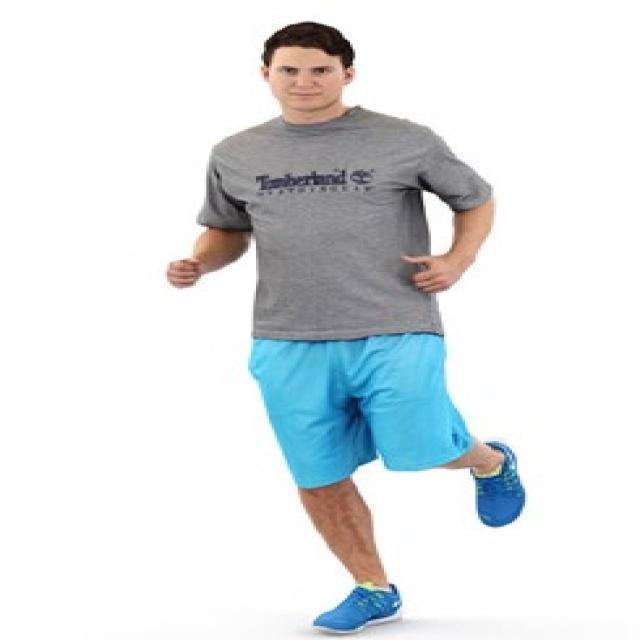running: (161, 19, 527, 636)
